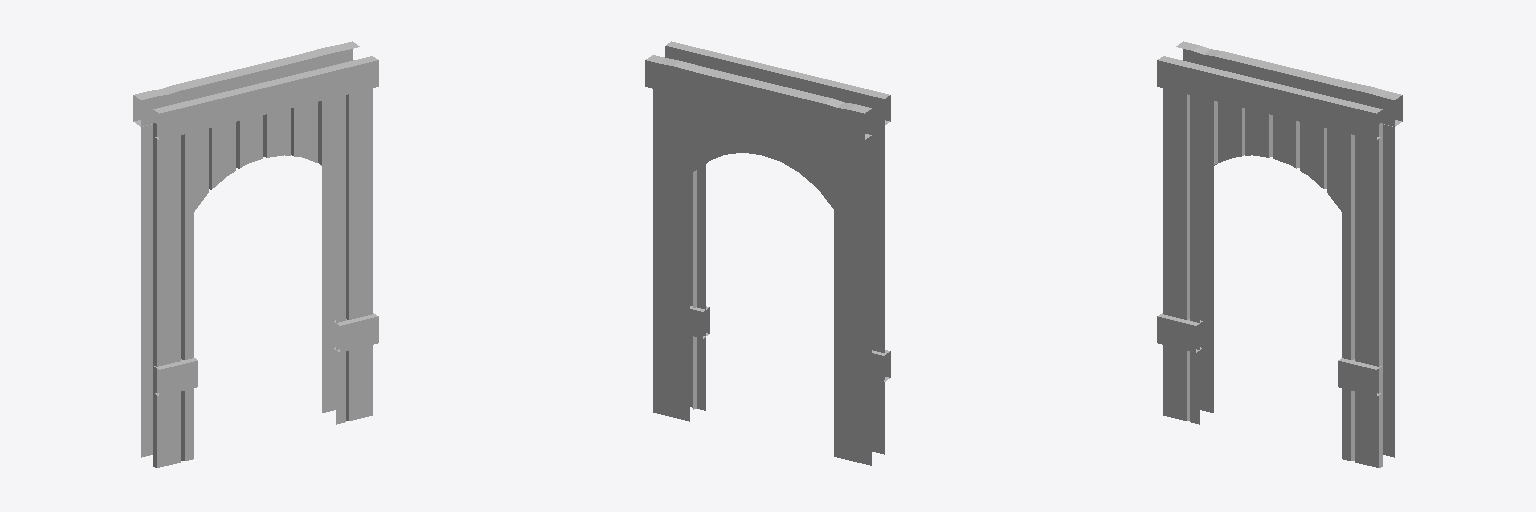
The model's file is Wall_WoodWear_Door_Round.obj.
3 renders of one model, left to right at view 1: azimuth 30°, elevation 25°; view 2: azimuth 150°, elevation 25°; view 3: azimuth 330°, elevation 25°, orthographic.
Visible parts, largest first — view 1: Wall_WoodWear_Door_Round; view 2: Wall_WoodWear_Door_Round; view 3: Wall_WoodWear_Door_Round.
Part boxes in pixels (left/top/right/bottom): Wall_WoodWear_Door_Round: left=133, top=41, right=378, bottom=467; Wall_WoodWear_Door_Round: left=645, top=41, right=890, bottom=465; Wall_WoodWear_Door_Round: left=1157, top=41, right=1402, bottom=467.
Bounding box in the file's own units: 2 × 3.12 × 0.4065.